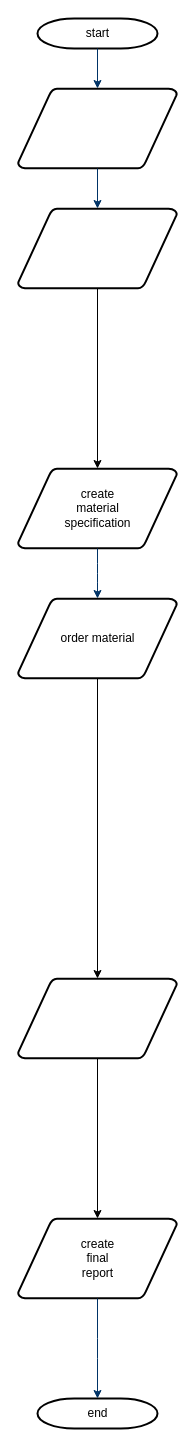
Image size: 195x1446. Some labels were removed from this diagram. Each missing label, with the box of its shape:
analyse project documentation: (16, 87, 178, 169)
check for obscurities: (16, 207, 178, 289)
create status report: (16, 977, 178, 1059)
